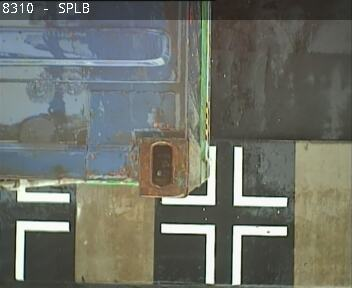groundmarker_1: (160, 222, 287, 284), (160, 146, 287, 207), (14, 187, 69, 280)
